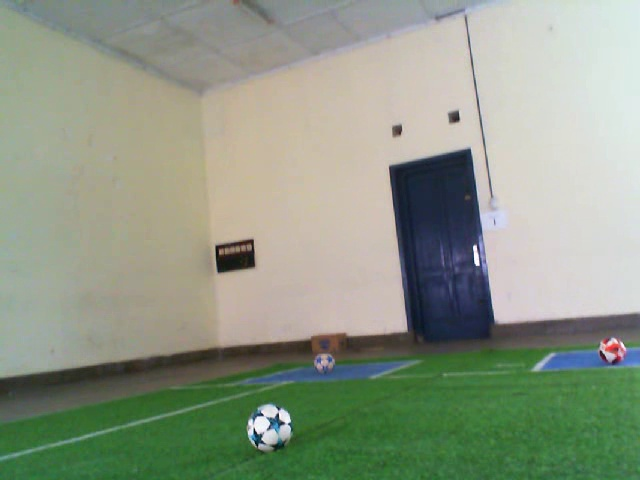ball: (244, 400, 295, 454), (597, 335, 629, 366), (312, 351, 337, 376)
